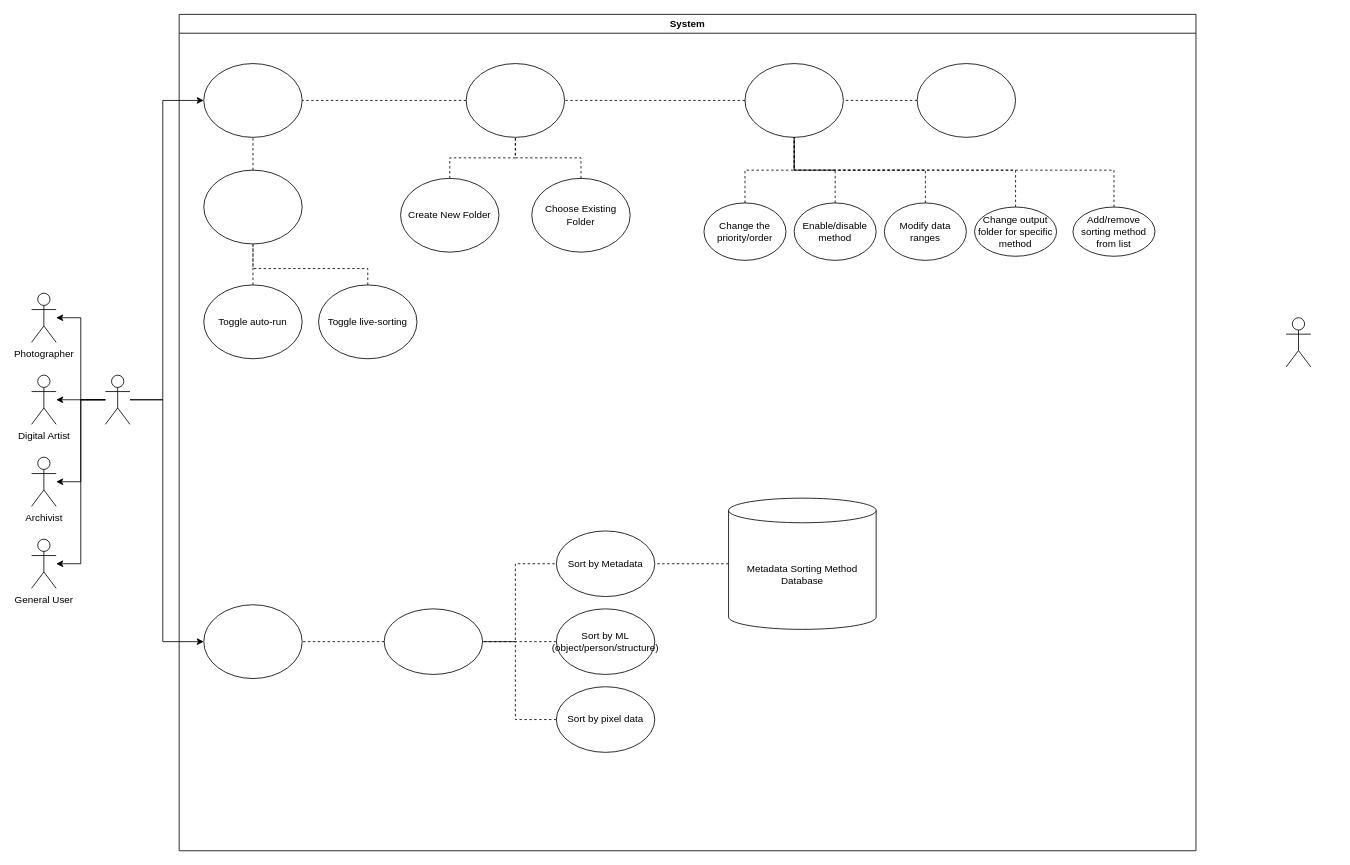
Some shapes in this 1350 by 865 pixel diagram are drawn without their labels. The centre of each missing label's shape, as x and y in pixels:
Configure Sorting Methods: pixel 793 100
Drop images into Anchor Point: pixel 252 641
Open App Settings Page: pixel 252 206
Open the GUI: pixel 252 100
Save/load sorting preset: pixel 966 100
Set Anchor Point: pixel 515 100
Sort images based on desired parameters: pixel 433 641
Sorting Algorithm: pixel 1298 342
User: pixel 117 399
